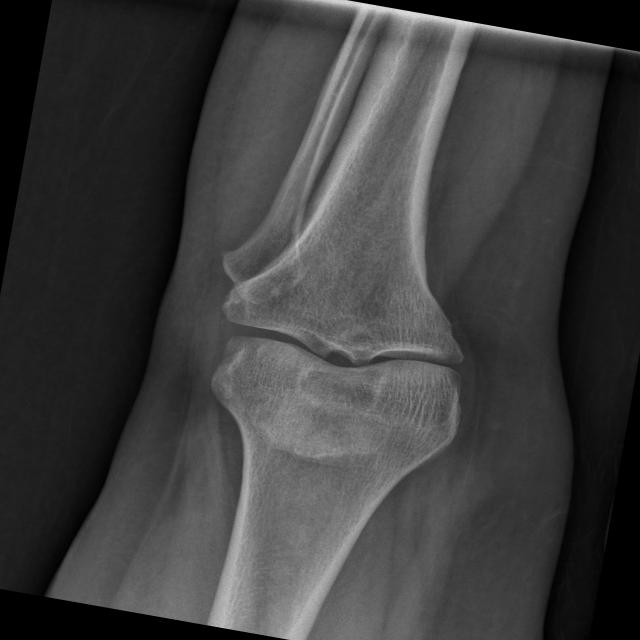Knee: (205, 262, 482, 450)
